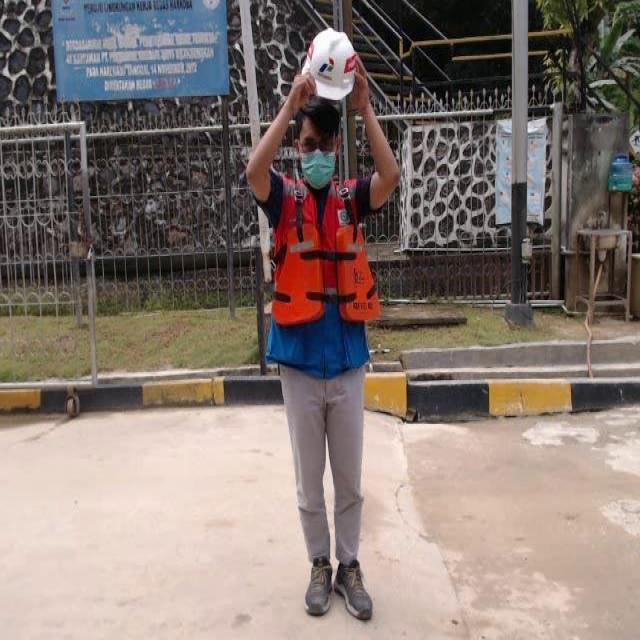Vest: (269, 216, 384, 328)
